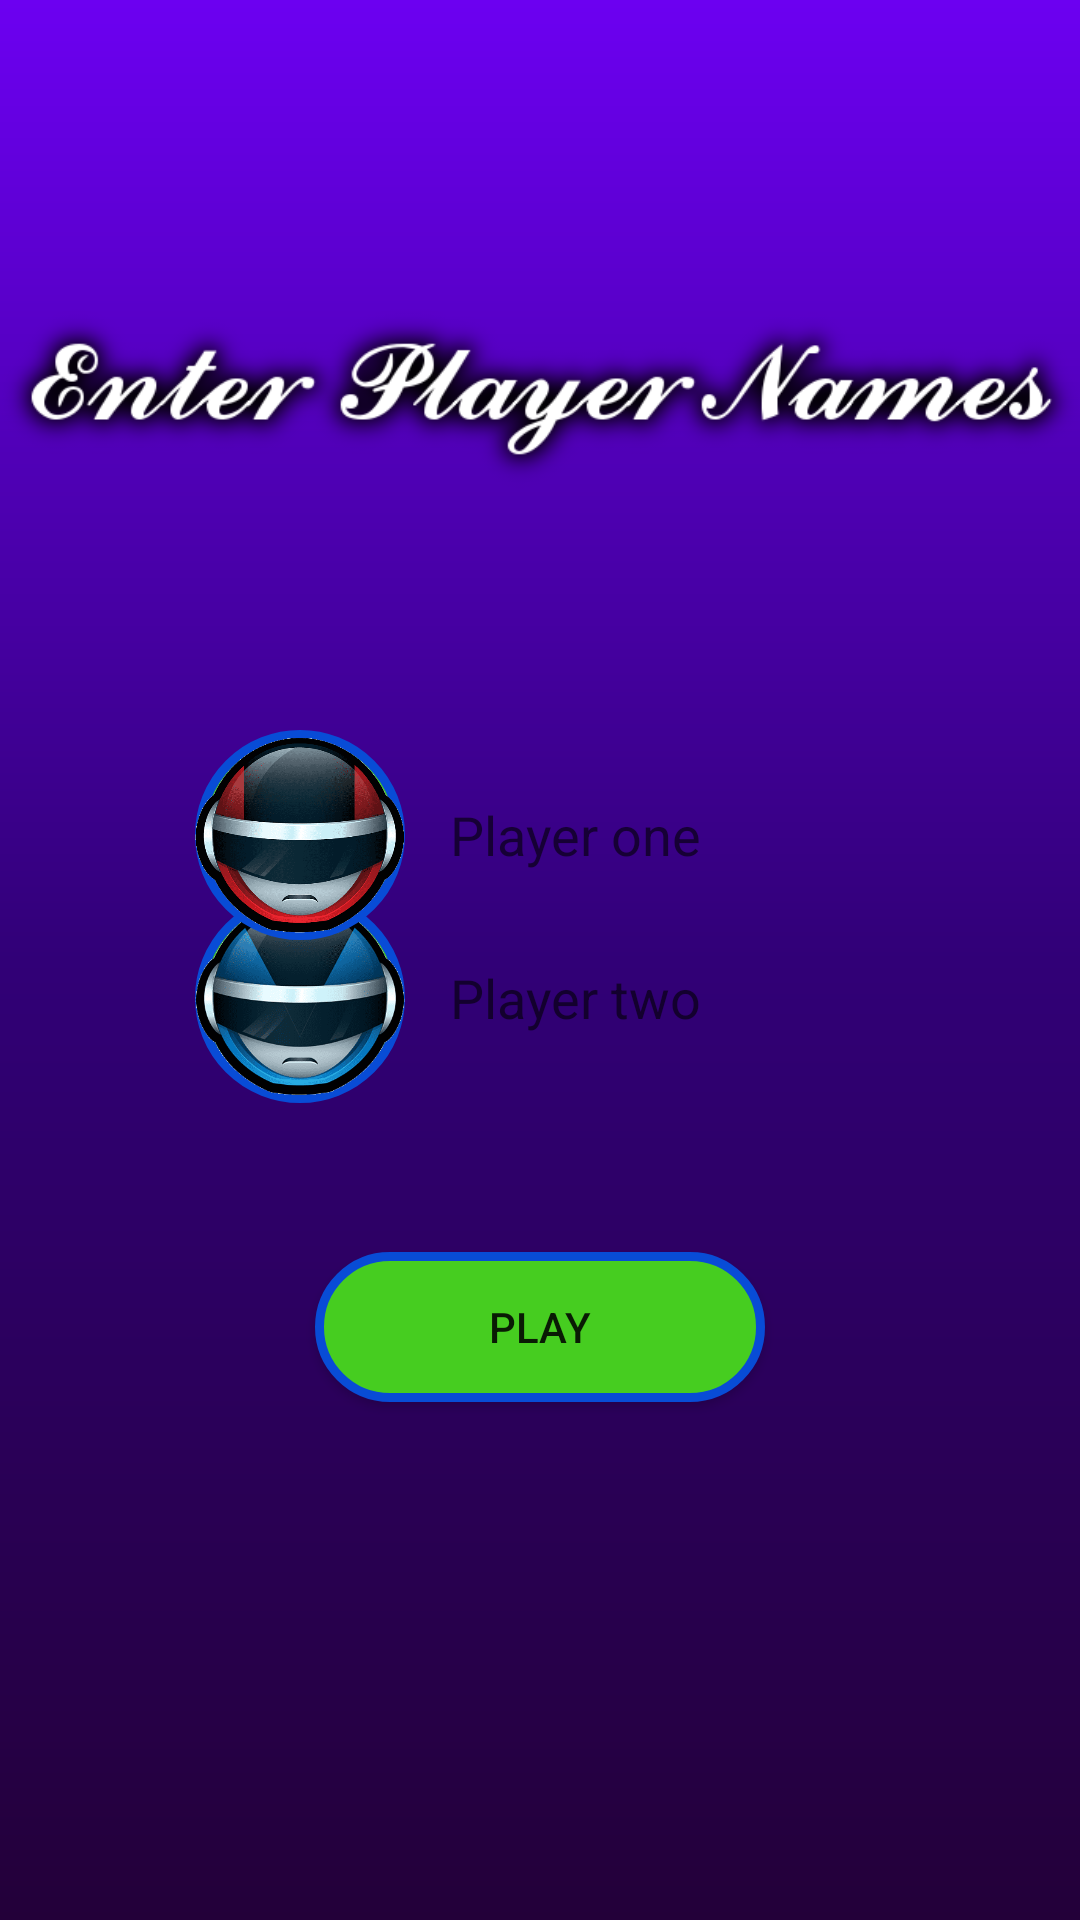

Where icons sit on this 1080x1920 app screen, as bbox=[x1, y1, x2, y2]:
robot: bbox=[195, 730, 405, 940], bbox=[195, 893, 405, 1103]
